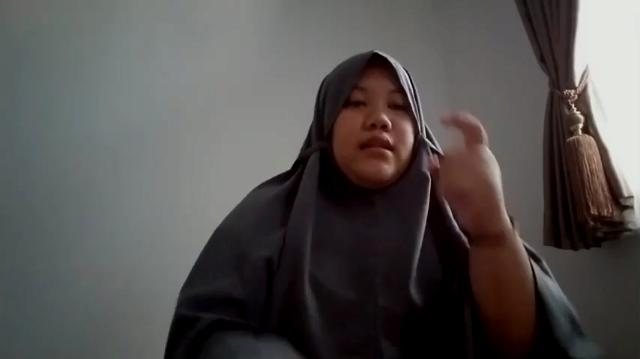X: (422, 108, 512, 232)
